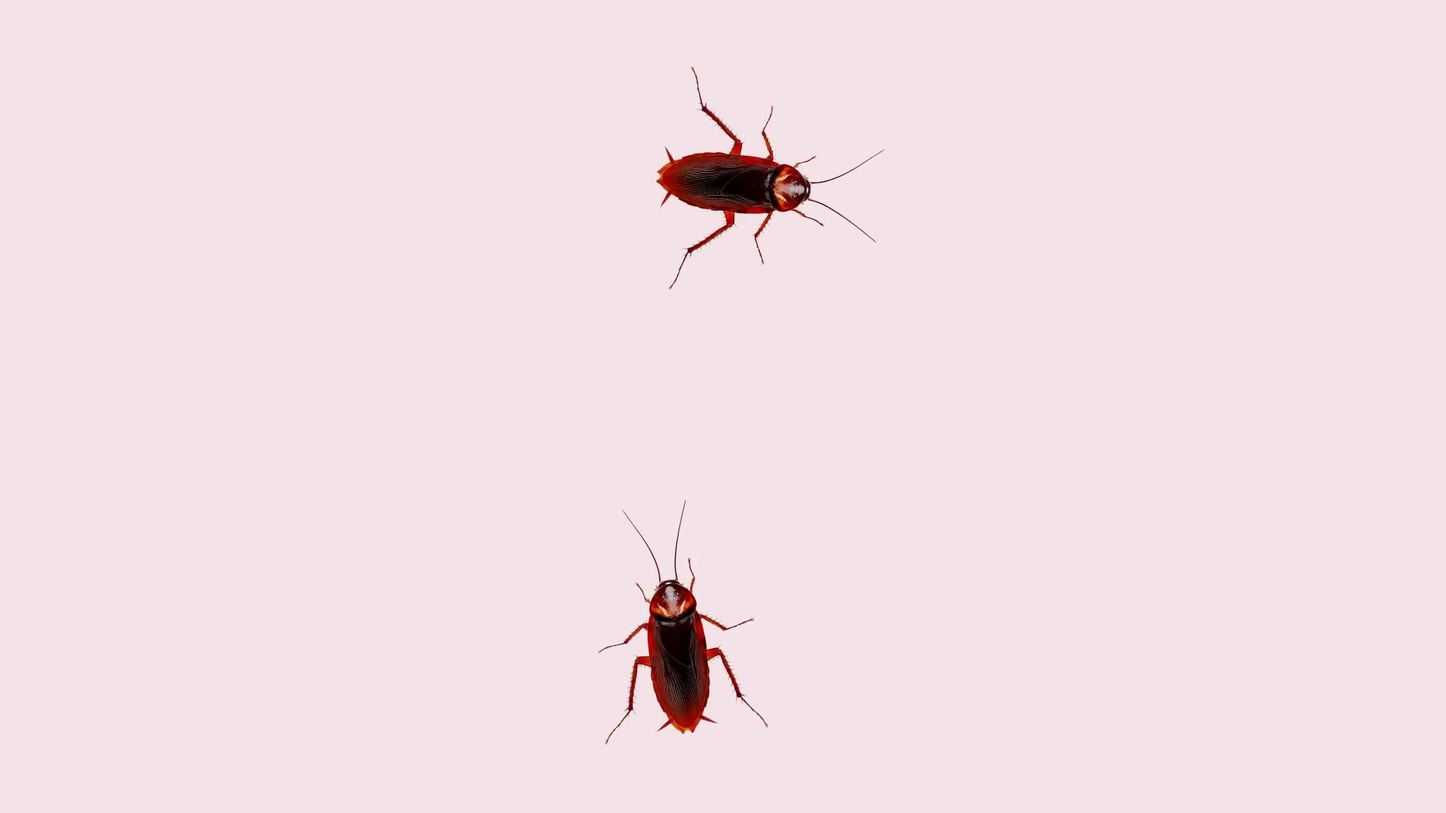cockroach: (659, 76, 875, 274), (614, 499, 757, 744)
